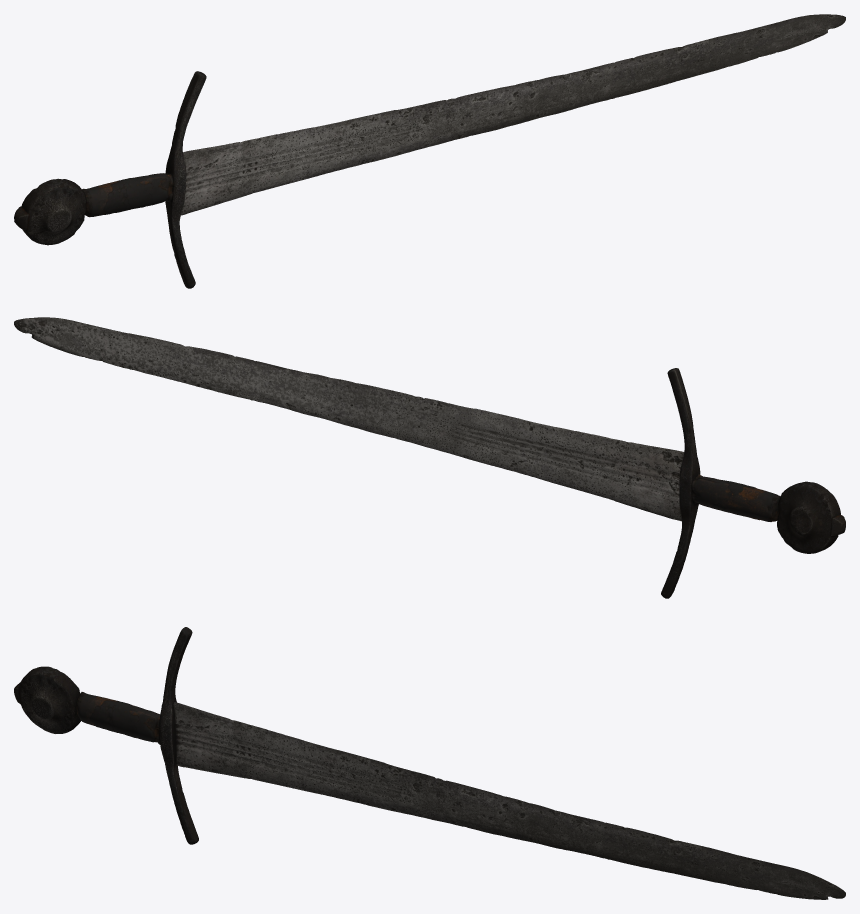
The model's file is moonbrand_arming_sword.glb.
The picture shows the model from 3 angles, top to bottom: view 1: azimuth 30°, elevation 25°; view 2: azimuth 150°, elevation 25°; view 3: azimuth 330°, elevation 25°; orthographic projection.
Visible parts, largest first — view 1: Moonbrand_small_0; view 2: Moonbrand_small_0; view 3: Moonbrand_small_0.
Part boxes in pixels (left/top/right/bottom): Moonbrand_small_0: left=14, top=14, right=845, bottom=288; Moonbrand_small_0: left=14, top=317, right=845, bottom=598; Moonbrand_small_0: left=14, top=627, right=845, bottom=899.
Bounding box in the file's own units: 0.9156 × 0.2339 × 0.0343.
Materials: 1 (1 with a texture image).
